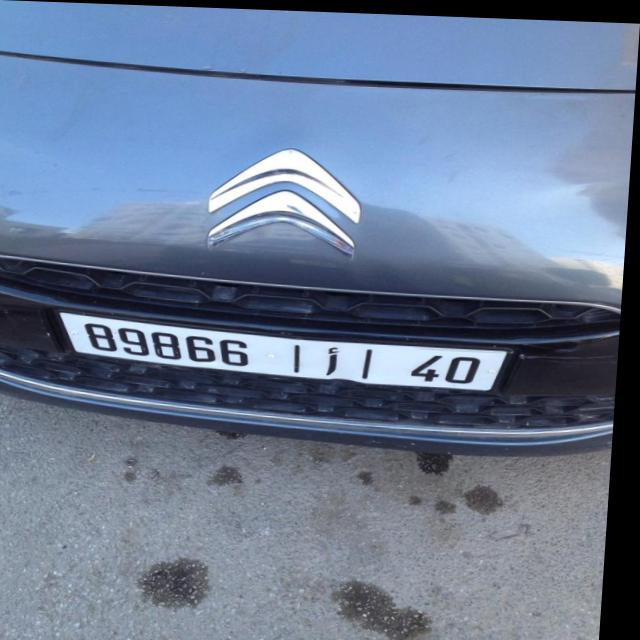License-Plate: (64, 313, 510, 387)
